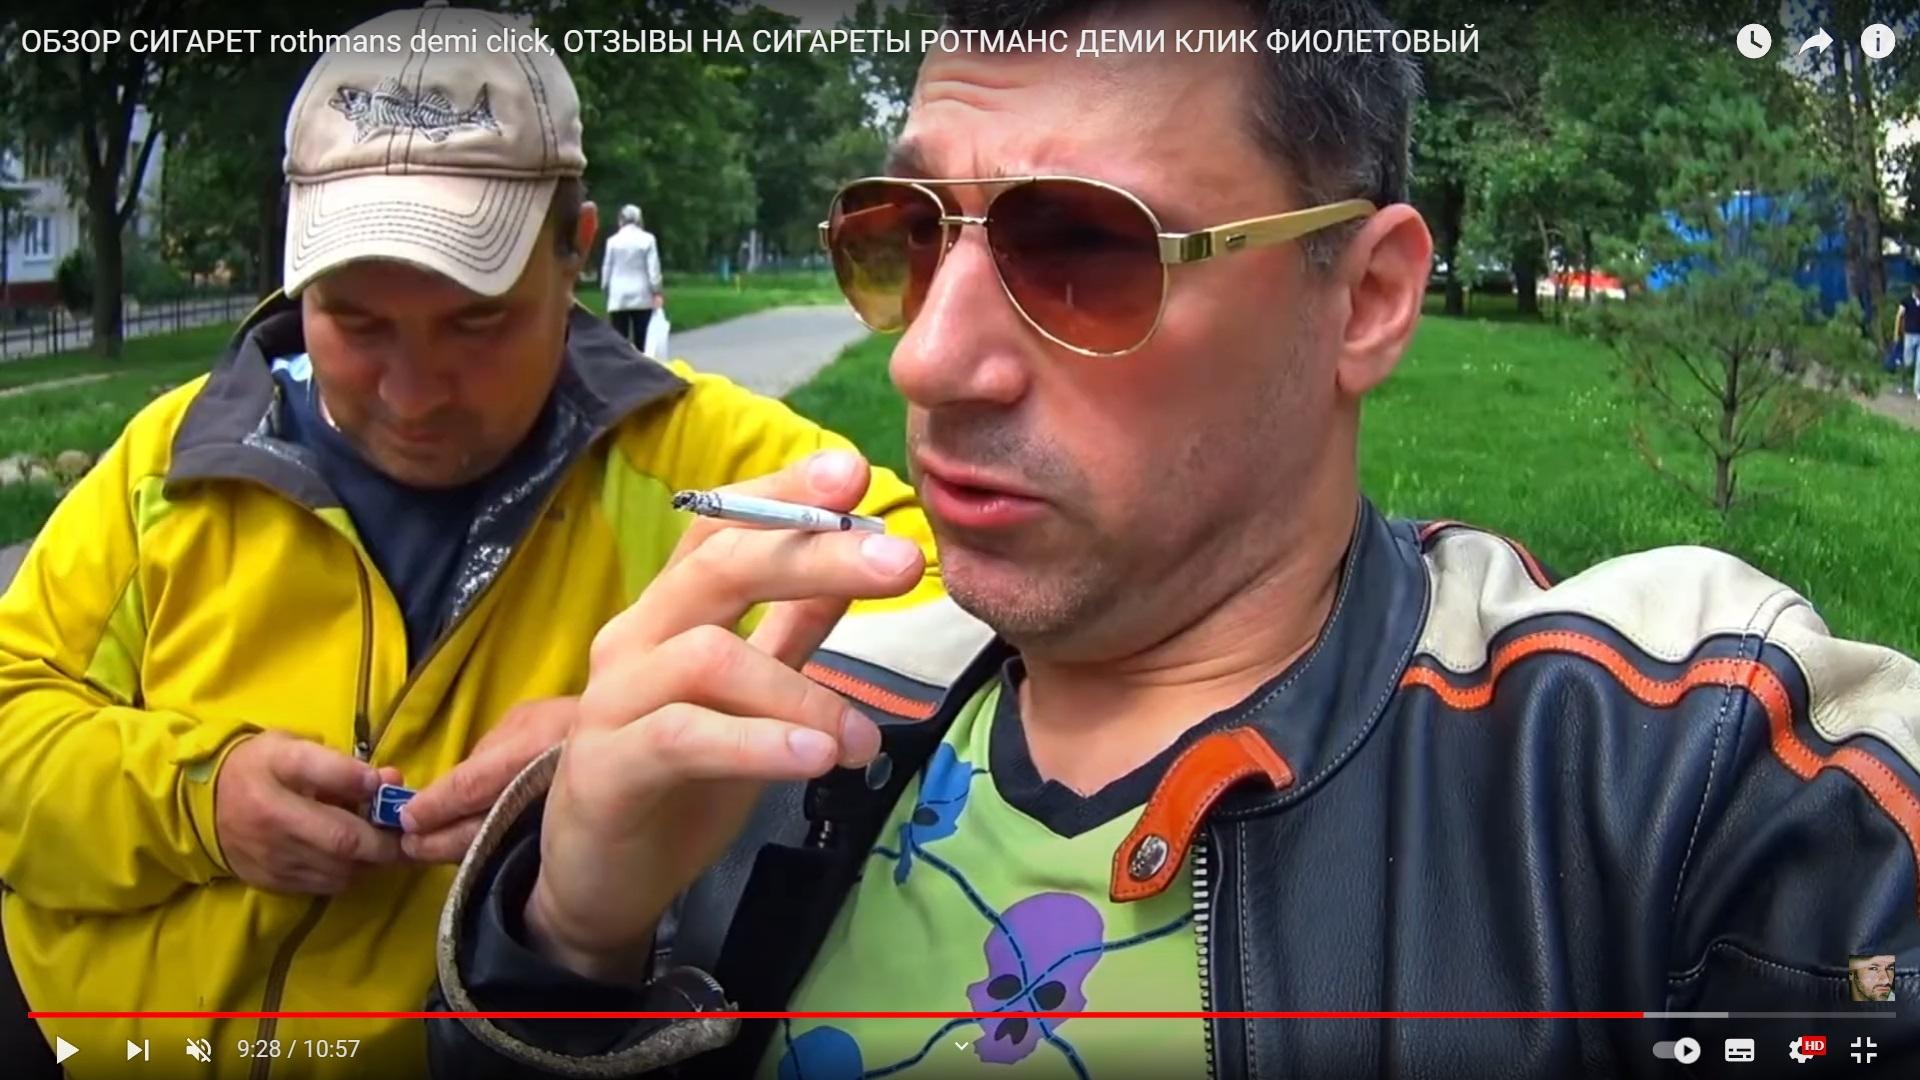cigarette: (671, 492, 885, 533)
